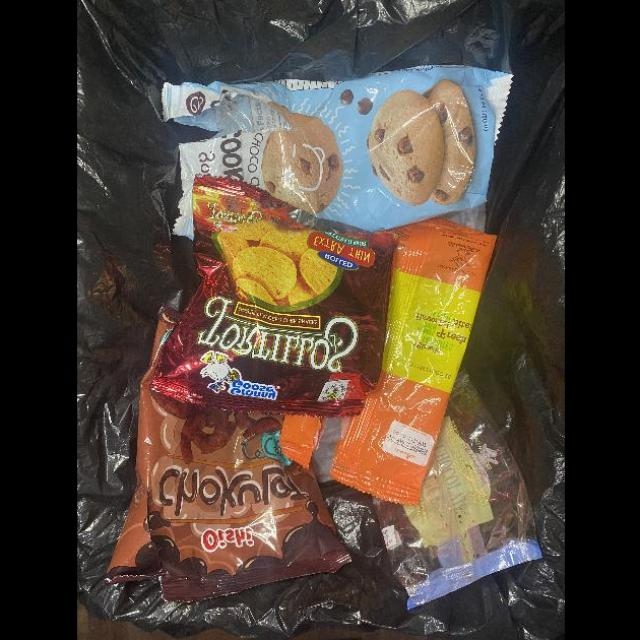bao_bi_thuc_pham: (108, 301, 351, 603), (279, 217, 497, 507), (162, 65, 513, 238), (153, 174, 397, 419), (371, 369, 539, 607)
